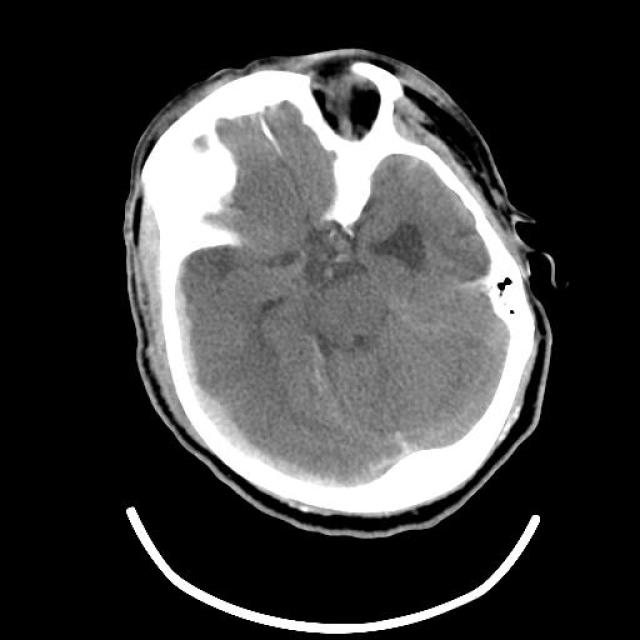Subarachnoid: (370, 418, 428, 472)
Subdural: (165, 380, 385, 519), (159, 275, 205, 380)
